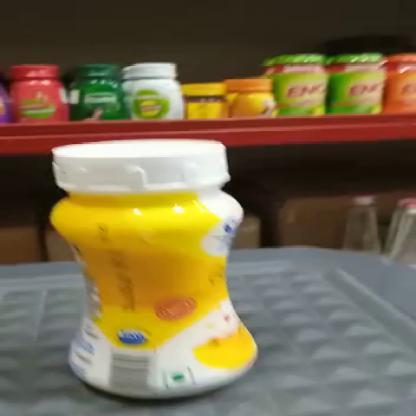SUGAR FREE GOLD POWDER 100GM: (54, 138, 262, 400)
